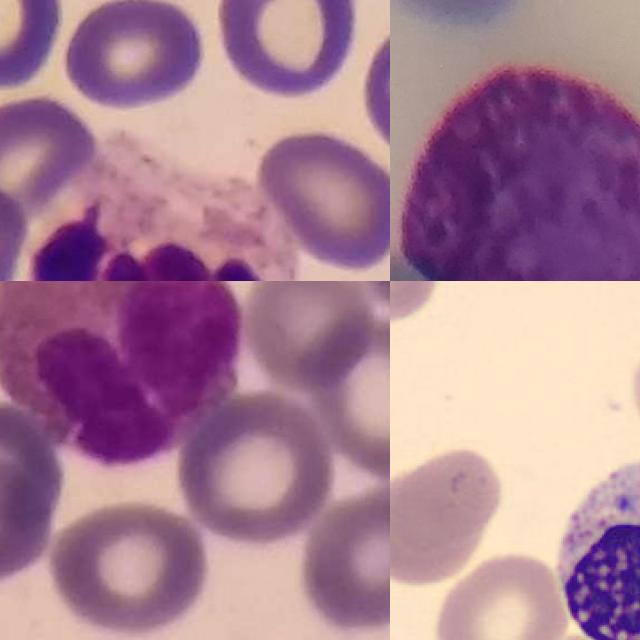Basophil: (398, 66, 640, 281)
Eosinophil: (0, 281, 240, 464)
Monocyte: (543, 441, 640, 640)
Neutrophil: (30, 165, 297, 281)
RBC: (390, 442, 509, 586), (429, 547, 570, 640), (390, 281, 444, 329)
